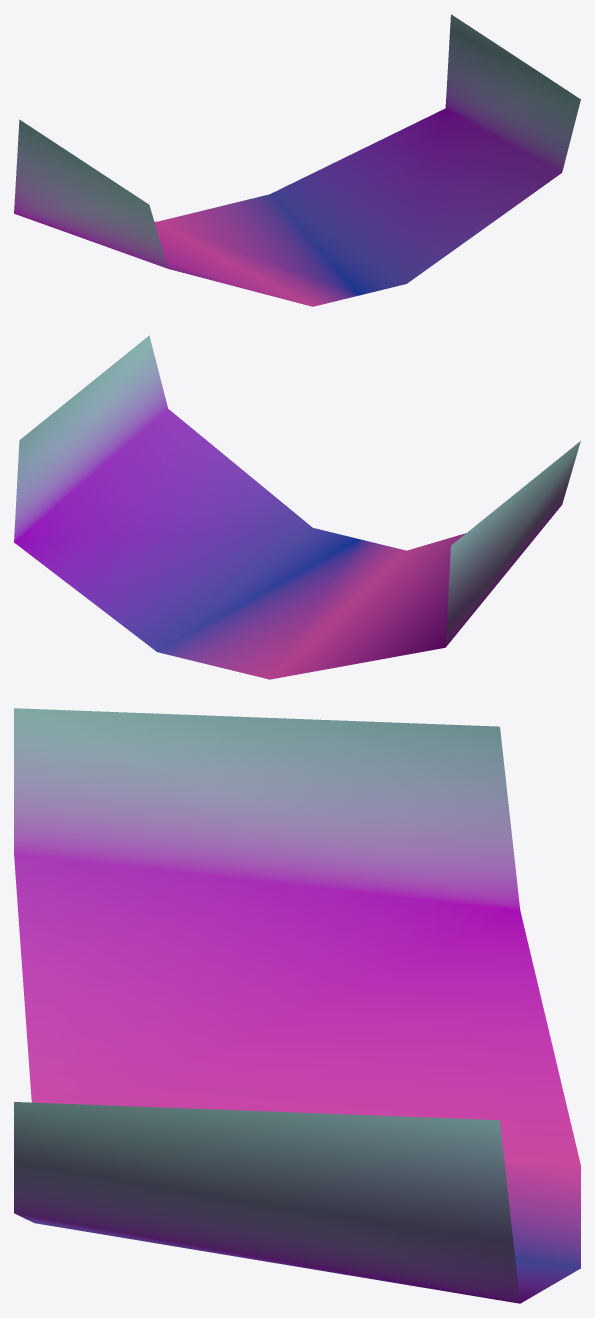
The picture shows the model from 3 angles, top to bottom: view 1: azimuth 30°, elevation 25°; view 2: azimuth 150°, elevation 25°; view 3: azimuth 270°, elevation 25°; orthographic projection. The views are drawn at different scales.
Parts seen in each view (by area): view 1: part; view 2: part; view 3: part.
Part boxes in pixels (box(x1,y1,x2,y2)): part: box(14, 14, 580, 306); part: box(14, 335, 580, 679); part: box(14, 708, 580, 1303).
Size of the model in its own units: 46 by 17 by 28.
